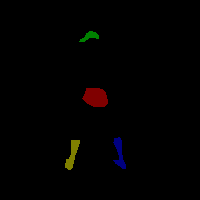abbigliamento: (65, 139, 80, 170), (113, 136, 126, 169), (79, 31, 99, 42)
mutande: (82, 88, 108, 107)
